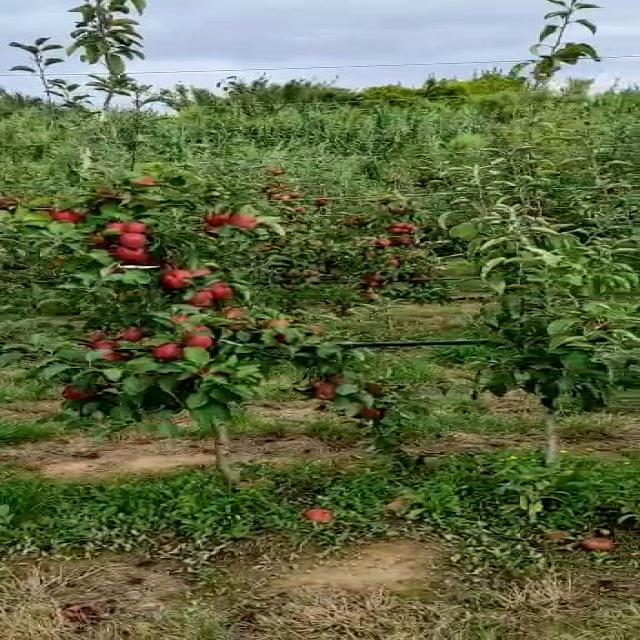100-_ripeness: (47, 380, 102, 398), (187, 326, 222, 349), (162, 271, 198, 290), (120, 232, 153, 252), (118, 247, 153, 265), (152, 340, 184, 356), (186, 289, 214, 307), (316, 381, 340, 401), (227, 217, 260, 230), (53, 209, 80, 224), (122, 219, 153, 232)
